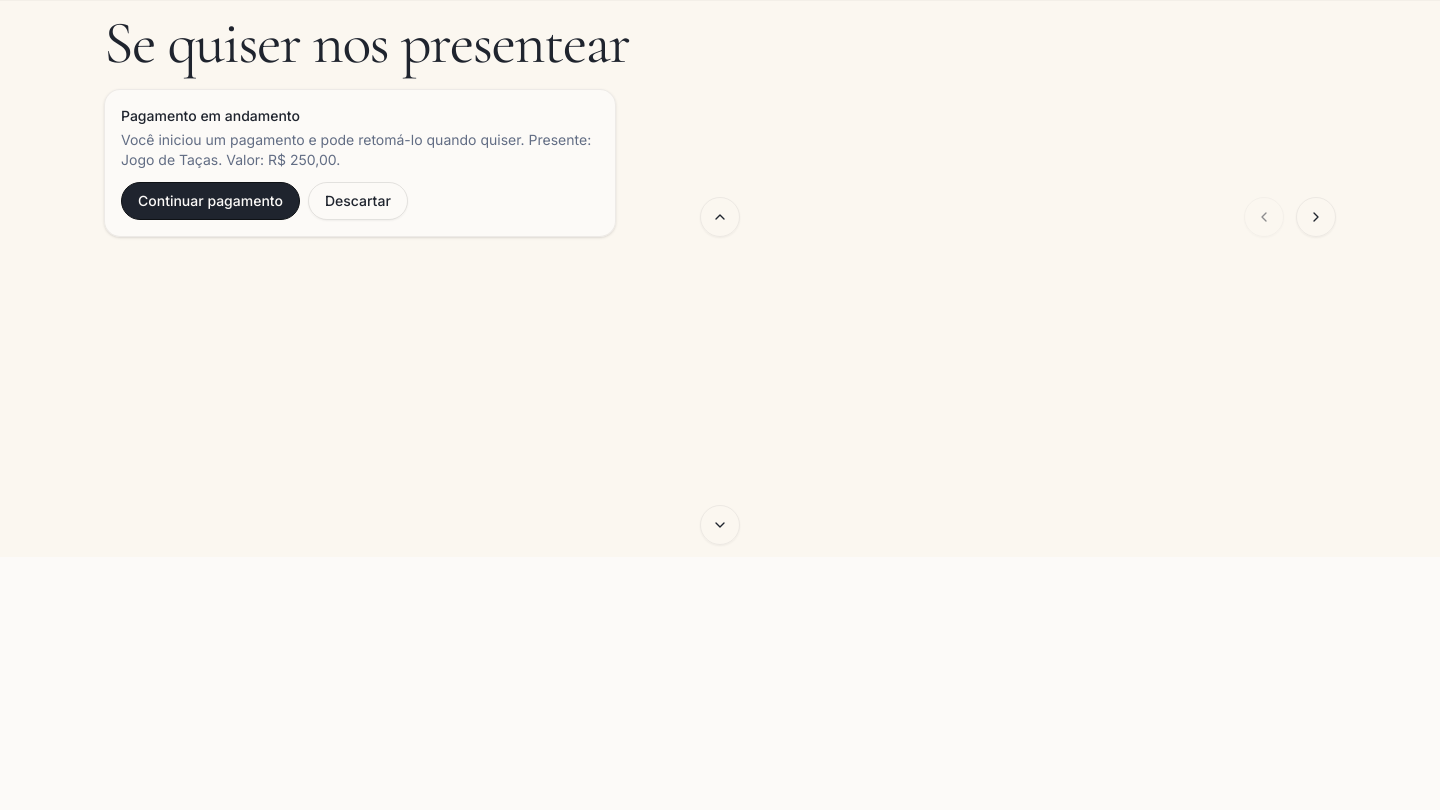
Presentes › discards through the API, clears recovery, and refreshes gifts on success
This screenshot has width=1440, height=810.
Expected: the text "Pagamento em andamento" is shown, [121,107,300,124]
Click the button "Descartar" at (358,201), box [308,182,408,220]
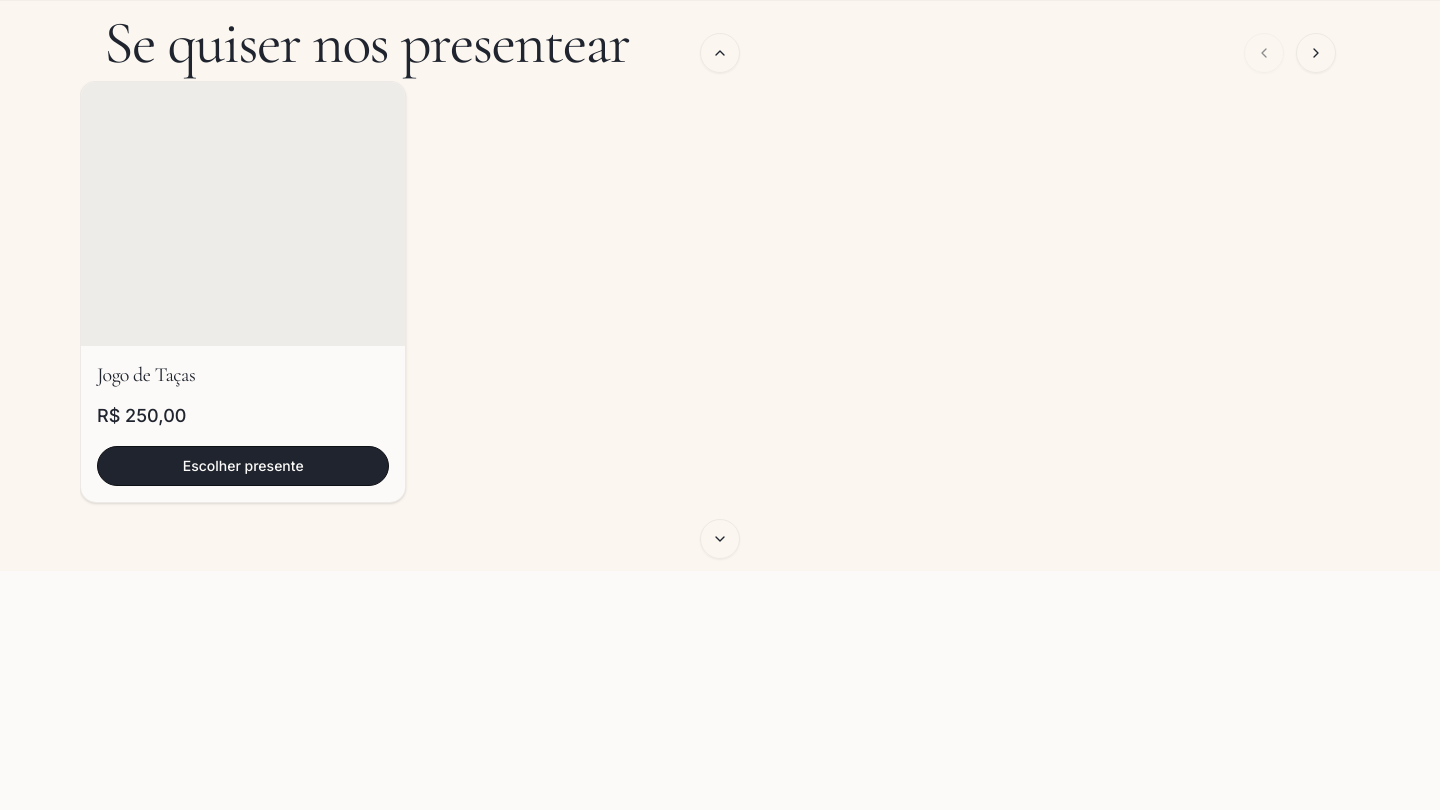
Expected: the text "Pagamento em andamento" is gone
